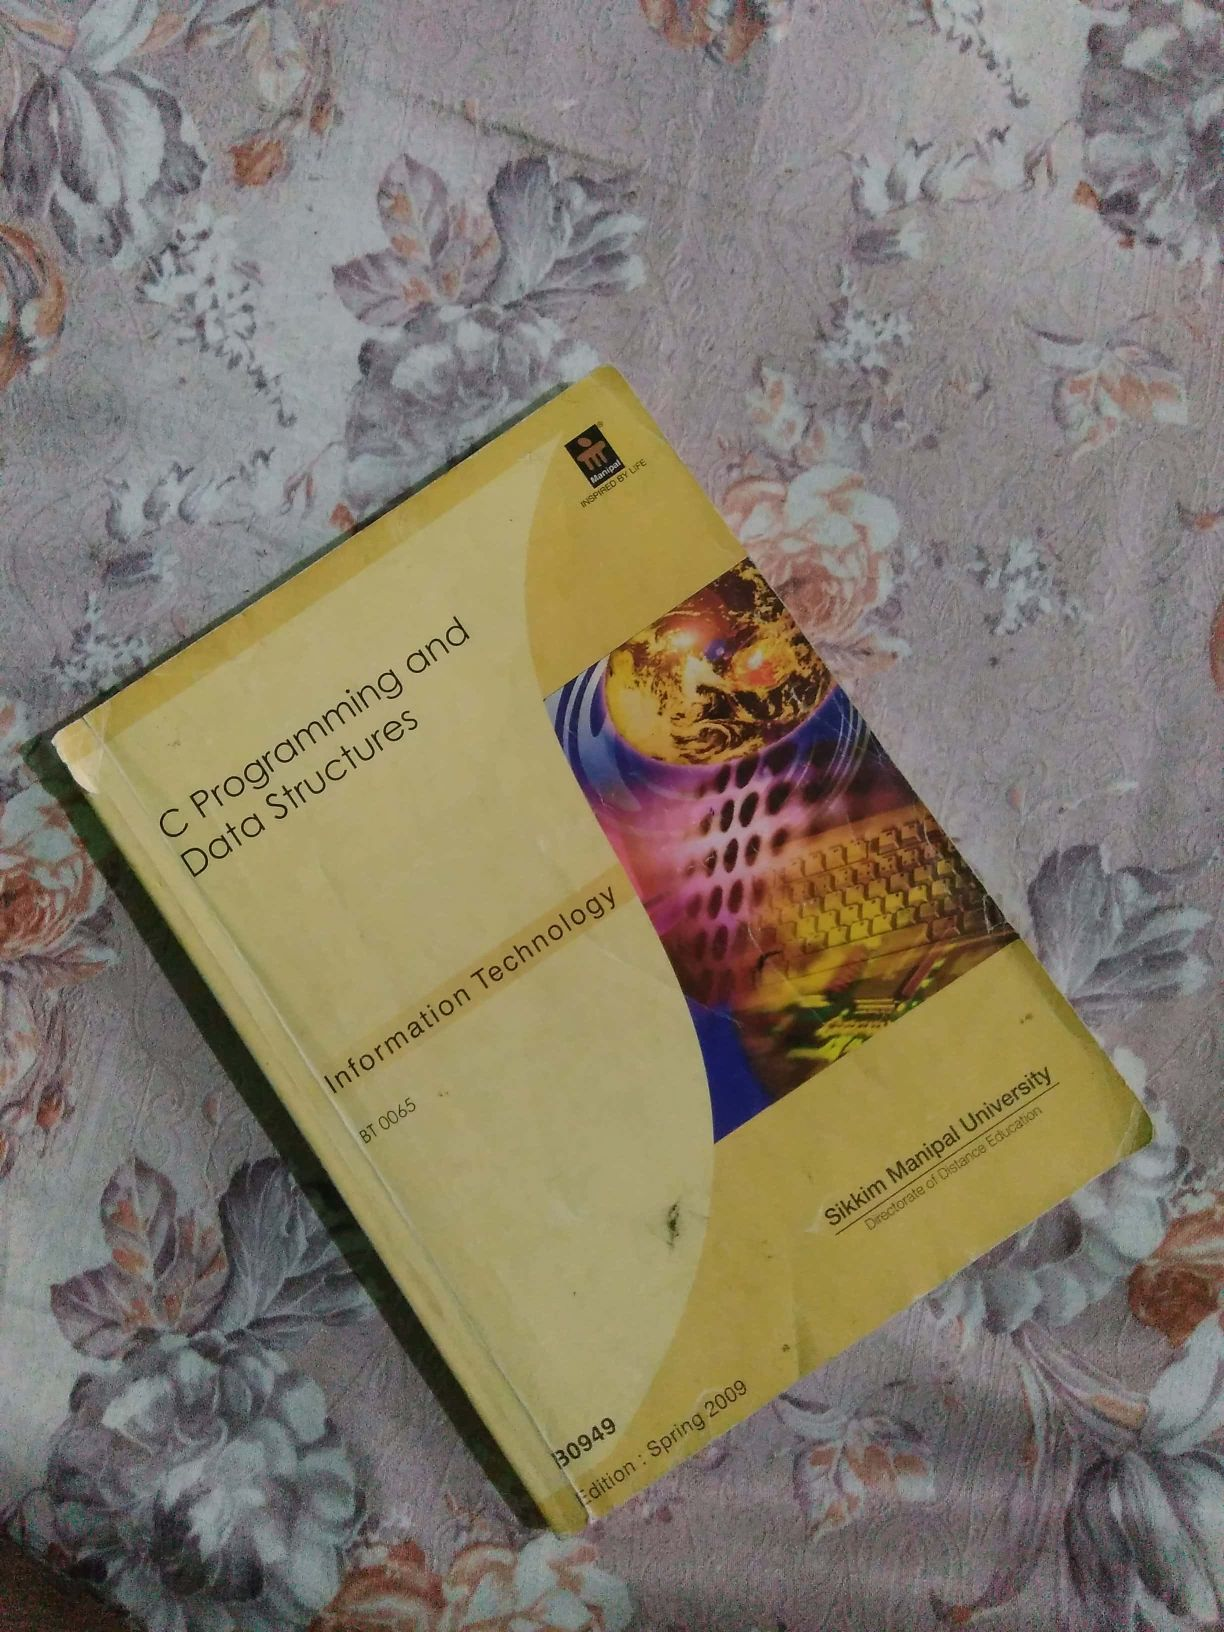clang: (90, 398, 1122, 1498)
